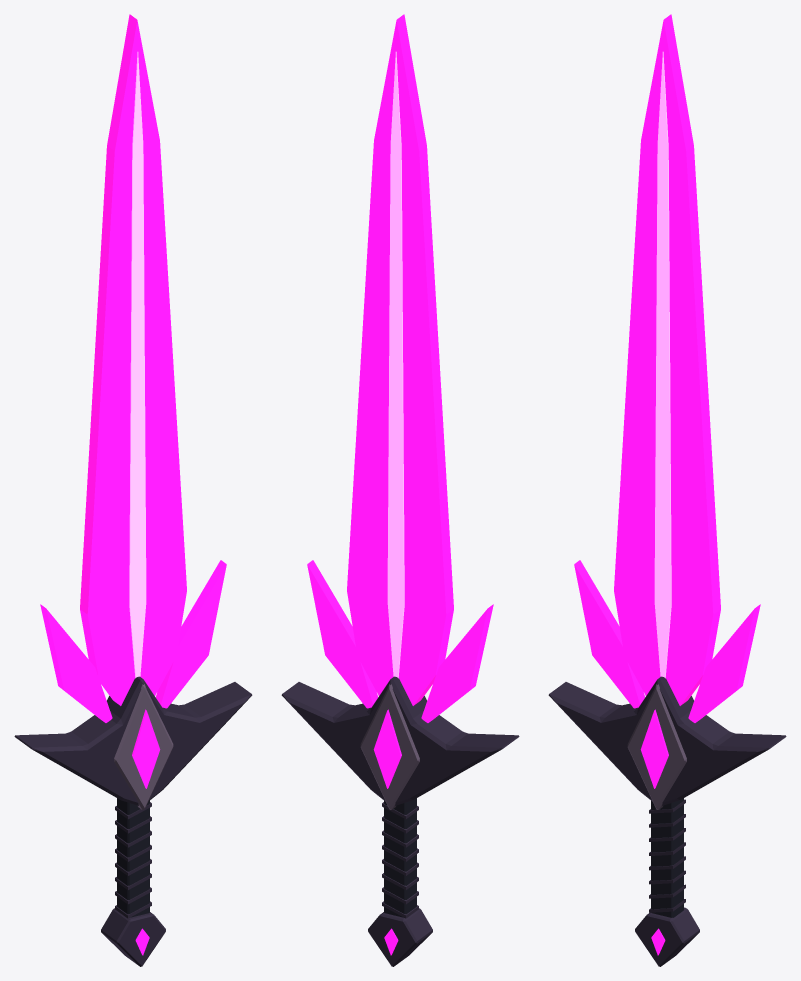
3 views of the same model, side by side, from view 1: azimuth 30°, elevation 25°; view 2: azimuth 150°, elevation 25°; view 3: azimuth 330°, elevation 25° (orthographic).
Parts seen in each view (by area): view 1: Energy blade, Guard, Blade luminous ridge, Energy fork.001, Energy fork, Central guard setting, Grip, Pommel, Guard energy gem; view 2: Energy blade, Guard, Blade luminous ridge.001, Energy fork.001, Energy fork, Central guard setting, Grip, Pommel, Guard energy gem.001; view 3: Energy blade, Guard, Blade luminous ridge, Energy fork, Energy fork.001, Grip, Central guard setting, Pommel, Guard energy gem.
Boxes of the visible parts, x1=… form: Energy blade: x1=80, y1=14, x2=186, y2=705; Guard: x1=14, y1=676, x2=252, y2=805; Blade luminous ridge: x1=129, y1=51, x2=146, y2=678; Energy fork.001: x1=155, y1=560, x2=226, y2=708; Energy fork: x1=40, y1=604, x2=112, y2=722; Central guard setting: x1=114, y1=684, x2=173, y2=809; Grip: x1=117, y1=798, x2=149, y2=917; Pommel: x1=101, y1=908, x2=165, y2=966; Guard energy gem: x1=132, y1=709, x2=160, y2=788; Energy blade: x1=347, y1=14, x2=453, y2=705; Guard: x1=281, y1=676, x2=519, y2=805; Blade luminous ridge.001: x1=387, y1=51, x2=404, y2=678; Energy fork.001: x1=307, y1=560, x2=378, y2=708; Energy fork: x1=421, y1=604, x2=493, y2=722; Central guard setting: x1=360, y1=684, x2=419, y2=809; Grip: x1=384, y1=798, x2=416, y2=917; Pommel: x1=368, y1=908, x2=432, y2=966; Guard energy gem.001: x1=373, y1=709, x2=401, y2=788; Energy blade: x1=614, y1=14, x2=720, y2=705; Guard: x1=548, y1=676, x2=786, y2=805; Blade luminous ridge: x1=654, y1=51, x2=671, y2=678; Energy fork: x1=574, y1=560, x2=645, y2=708; Energy fork.001: x1=688, y1=604, x2=760, y2=722; Grip: x1=651, y1=798, x2=683, y2=917; Central guard setting: x1=627, y1=684, x2=686, y2=809; Pommel: x1=635, y1=907, x2=699, y2=966; Guard energy gem: x1=640, y1=709, x2=668, y2=788.
Bounding box in the file's own units: 0.2937 × 1.2 × 0.061.
